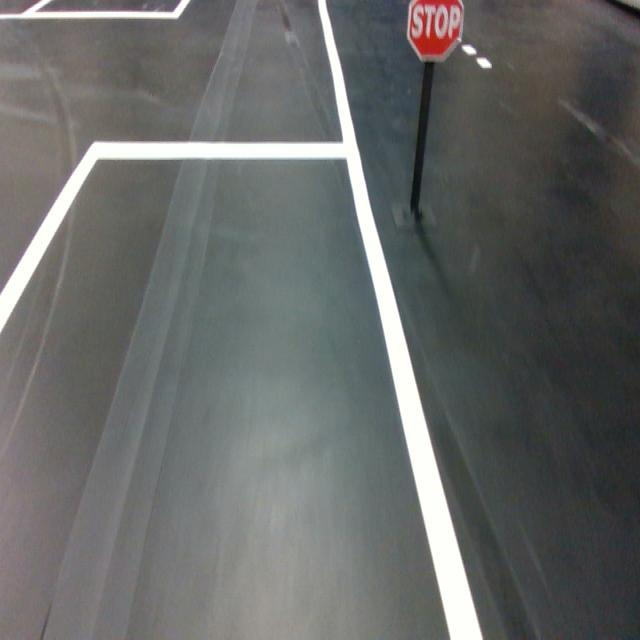stop-sign: (405, 0, 465, 63)
